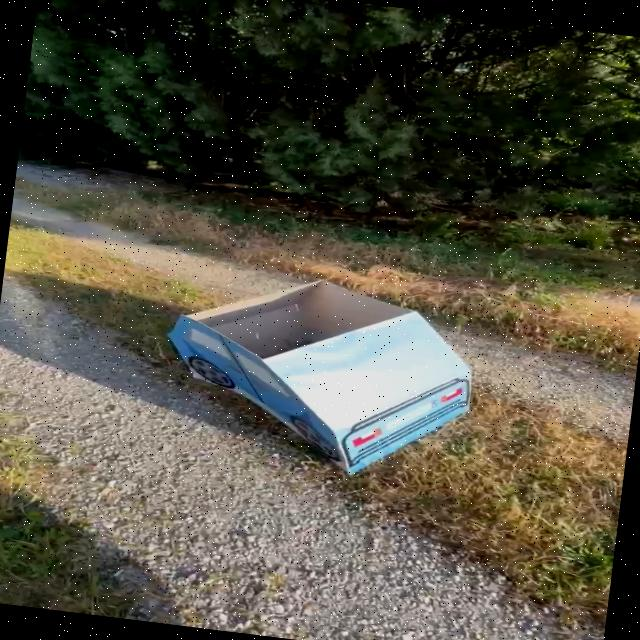blue_car: (76, 216, 601, 515)
